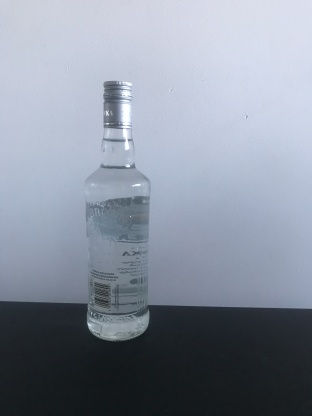nakretka: (102, 78, 134, 130)
